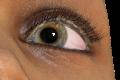eye: (36, 23, 68, 47)
